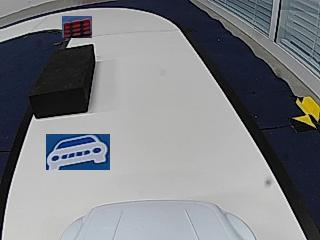block: (29, 44, 95, 119)
